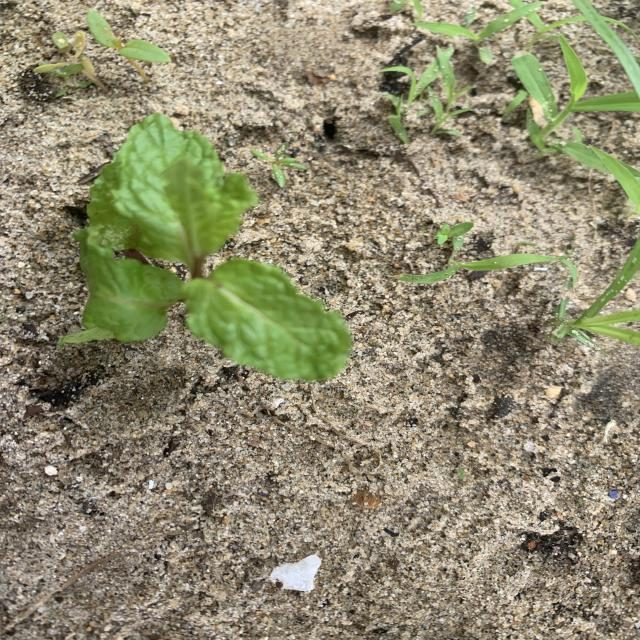crop: (59, 114, 352, 382)
weed: (511, 35, 640, 173), (396, 222, 560, 285), (397, 222, 563, 284), (552, 254, 640, 346), (572, 0, 640, 96), (415, 2, 540, 44), (87, 11, 158, 83), (378, 62, 437, 144), (33, 30, 109, 93), (526, 13, 640, 49), (429, 47, 470, 135), (251, 143, 308, 188), (388, 0, 424, 21), (479, 47, 493, 64), (458, 468, 468, 480)
